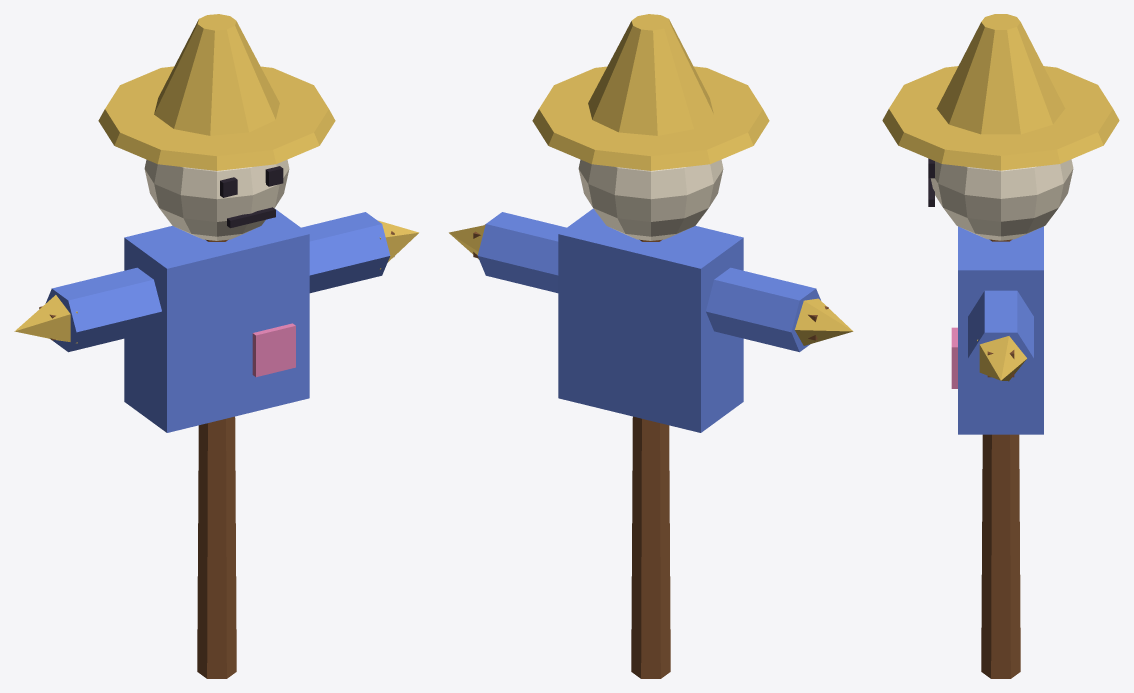
The model's file is scarecrow.glb.
3 renders of one model, left to right at view 1: azimuth 30°, elevation 25°; view 2: azimuth 150°, elevation 25°; view 3: azimuth 270°, elevation 25°, orthographic.
Visible parts, largest first — view 1: scarecrow; view 2: scarecrow; view 3: scarecrow.
Part boxes in pixels (x1=…): scarecrow: x1=14, y1=14, x2=418, y2=678; scarecrow: x1=449, y1=14, x2=853, y2=678; scarecrow: x1=882, y1=14, x2=1119, y2=678.
Bounding box in the file's own units: 1.42 × 2.18 × 0.72.
